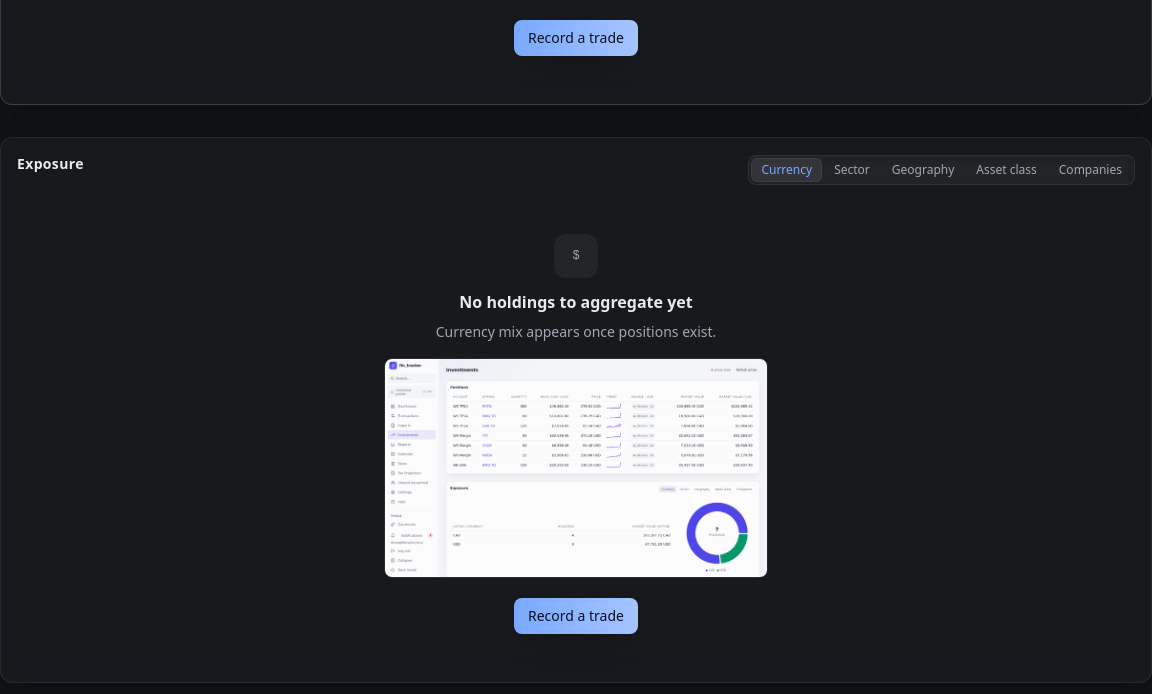
it: M166 — the estimate honesty copy › an estimated row still states how much of it is an estimate
(page scrolled)
Click the tab "Sector" at coordinates (852, 170), box x1=824 y1=158 x2=880 y2=182
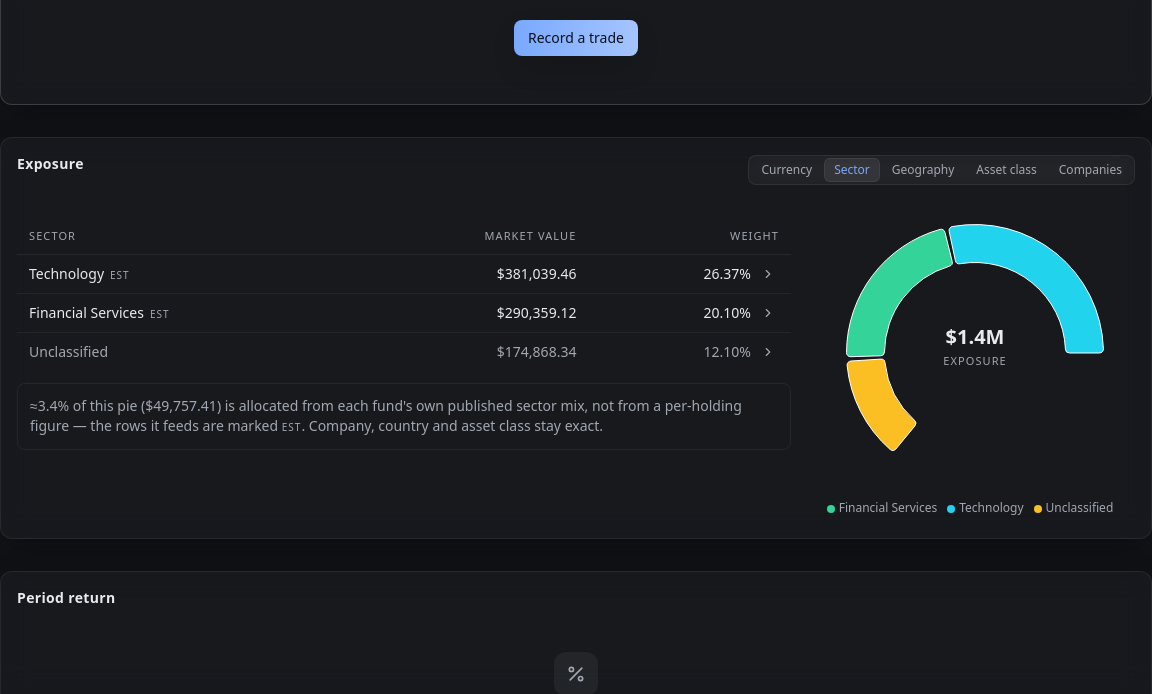
Now the element named "Exposure breakdown table" is shown, box x1=17 y1=218 x2=791 y2=372
